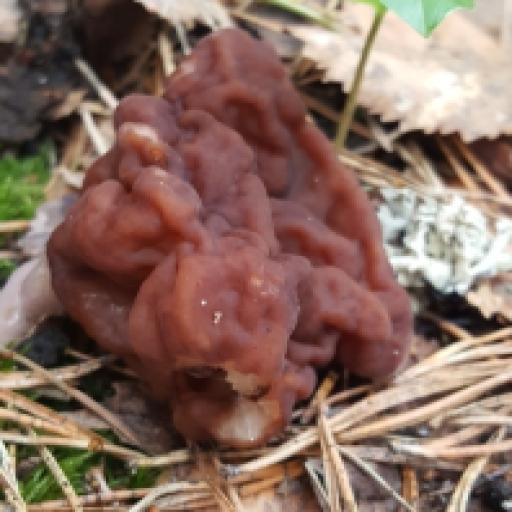mushroom: (0, 10, 458, 506)
